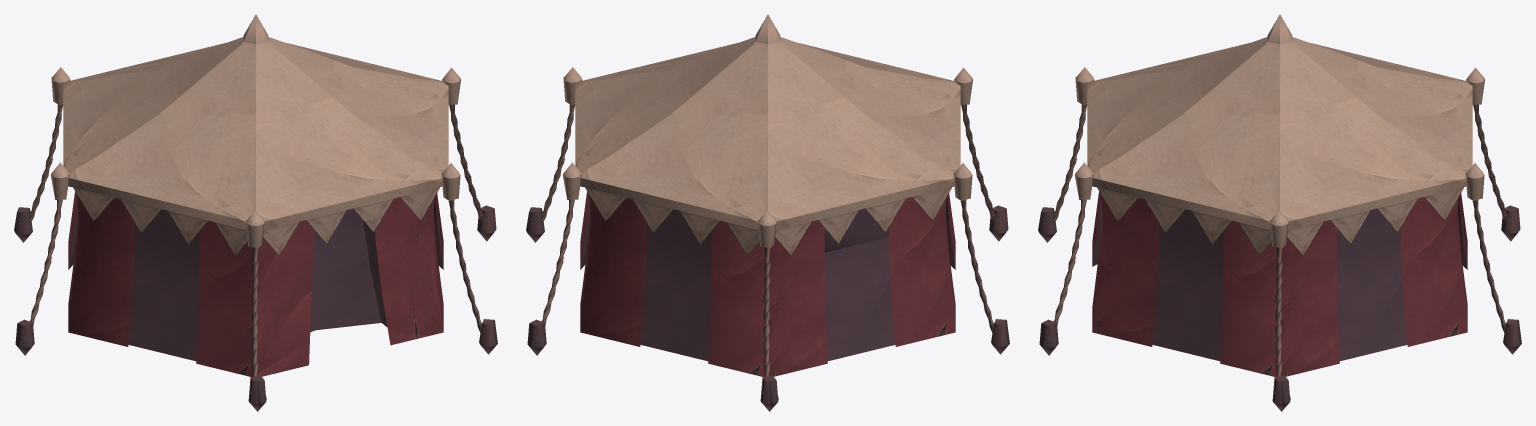
Rendered from Tent_middle.FBX.
3 renders of one model, left to right at view 1: azimuth 30°, elevation 25°; view 2: azimuth 150°, elevation 25°; view 3: azimuth 270°, elevation 25°, orthographic.
Visible parts, largest first — view 1: Cylinder004, Object011; view 2: Cylinder004, Object011; view 3: Cylinder004, Object011.
Boxes of the visible parts, box(x1,y1,x2,y2) form: Cylinder004: box(14, 14, 497, 411); Object011: box(73, 187, 439, 255); Cylinder004: box(526, 14, 1009, 411); Object011: box(585, 187, 951, 255); Cylinder004: box(1038, 14, 1521, 411); Object011: box(1097, 187, 1463, 255).
Size of the model in its own units: 17.12 by 9.73 by 14.98.
2 materials, 2 textured.
